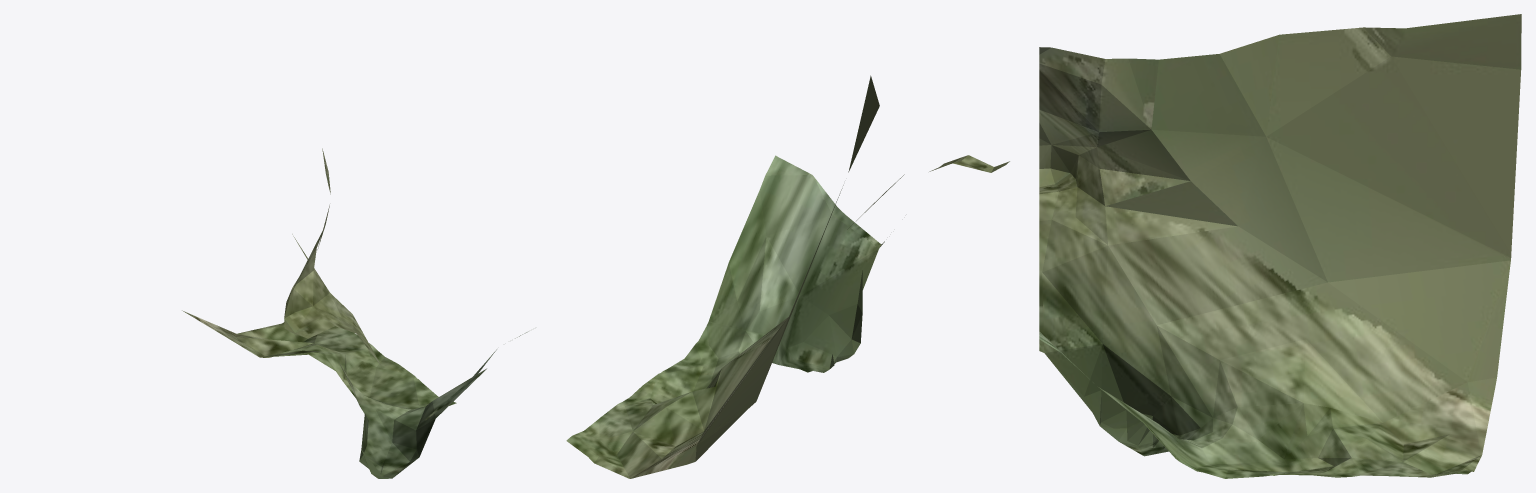
3 views of the same model, side by side, from view 1: azimuth 30°, elevation 25°; view 2: azimuth 150°, elevation 25°; view 3: azimuth 270°, elevation 25° (orthographic). The views are drawn at different scales.
Size of the model in its own units: 3.74 by 4.67 by 5.8.
2 materials, 2 textured.
